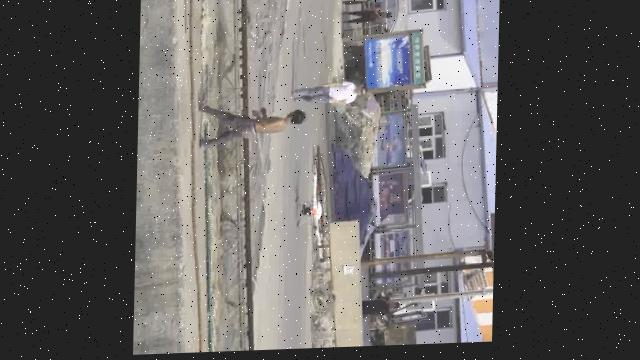drone: (293, 168, 327, 253)
